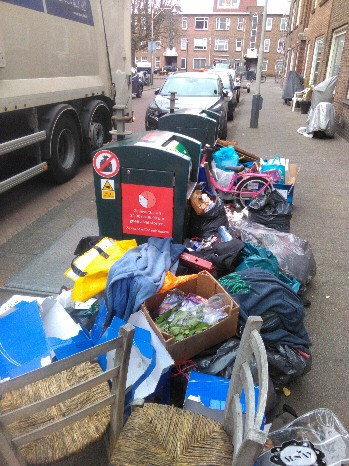Container: (104, 135, 207, 249), (161, 103, 227, 140)
Rest: (10, 255, 199, 396), (18, 316, 157, 462), (84, 373, 335, 450), (60, 227, 188, 312), (186, 247, 318, 315), (205, 146, 294, 223), (198, 291, 288, 364), (213, 194, 303, 264), (190, 387, 279, 428)
Voertuig: (10, 13, 110, 159), (157, 56, 244, 113)
